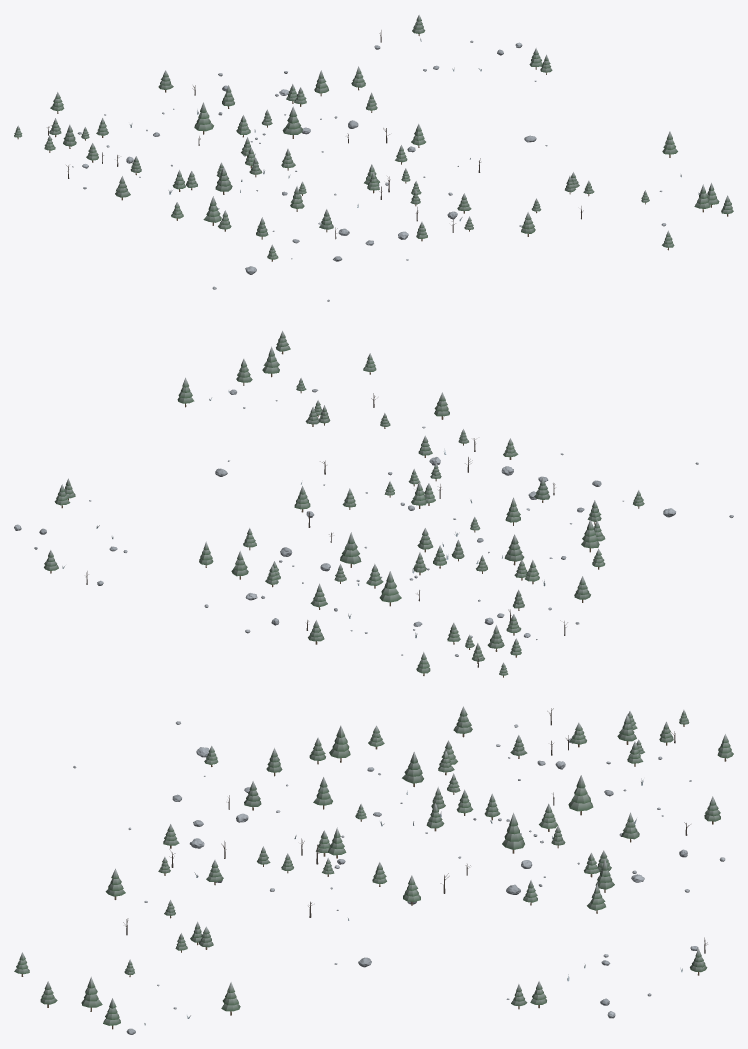
The model's file is frost_land_scatter_c14_10.glb.
3 views of the same model, one above another, from view 1: azimuth 30°, elevation 25°; view 2: azimuth 150°, elevation 25°; view 3: azimuth 270°, elevation 25° (orthographic). The views are drawn at different scales.
Visible parts, largest first — view 1: frost_land_scatter_c14_10; view 2: frost_land_scatter_c14_10; view 3: frost_land_scatter_c14_10.
Boxes of the visible parts, x1=… form: frost_land_scatter_c14_10: x1=14, y1=14, x2=733, y2=301; frost_land_scatter_c14_10: x1=14, y1=331, x2=733, y2=677; frost_land_scatter_c14_10: x1=14, y1=706, x2=733, y2=1034.
Bounding box in the file's own units: 253 × 25.16 × 260.
